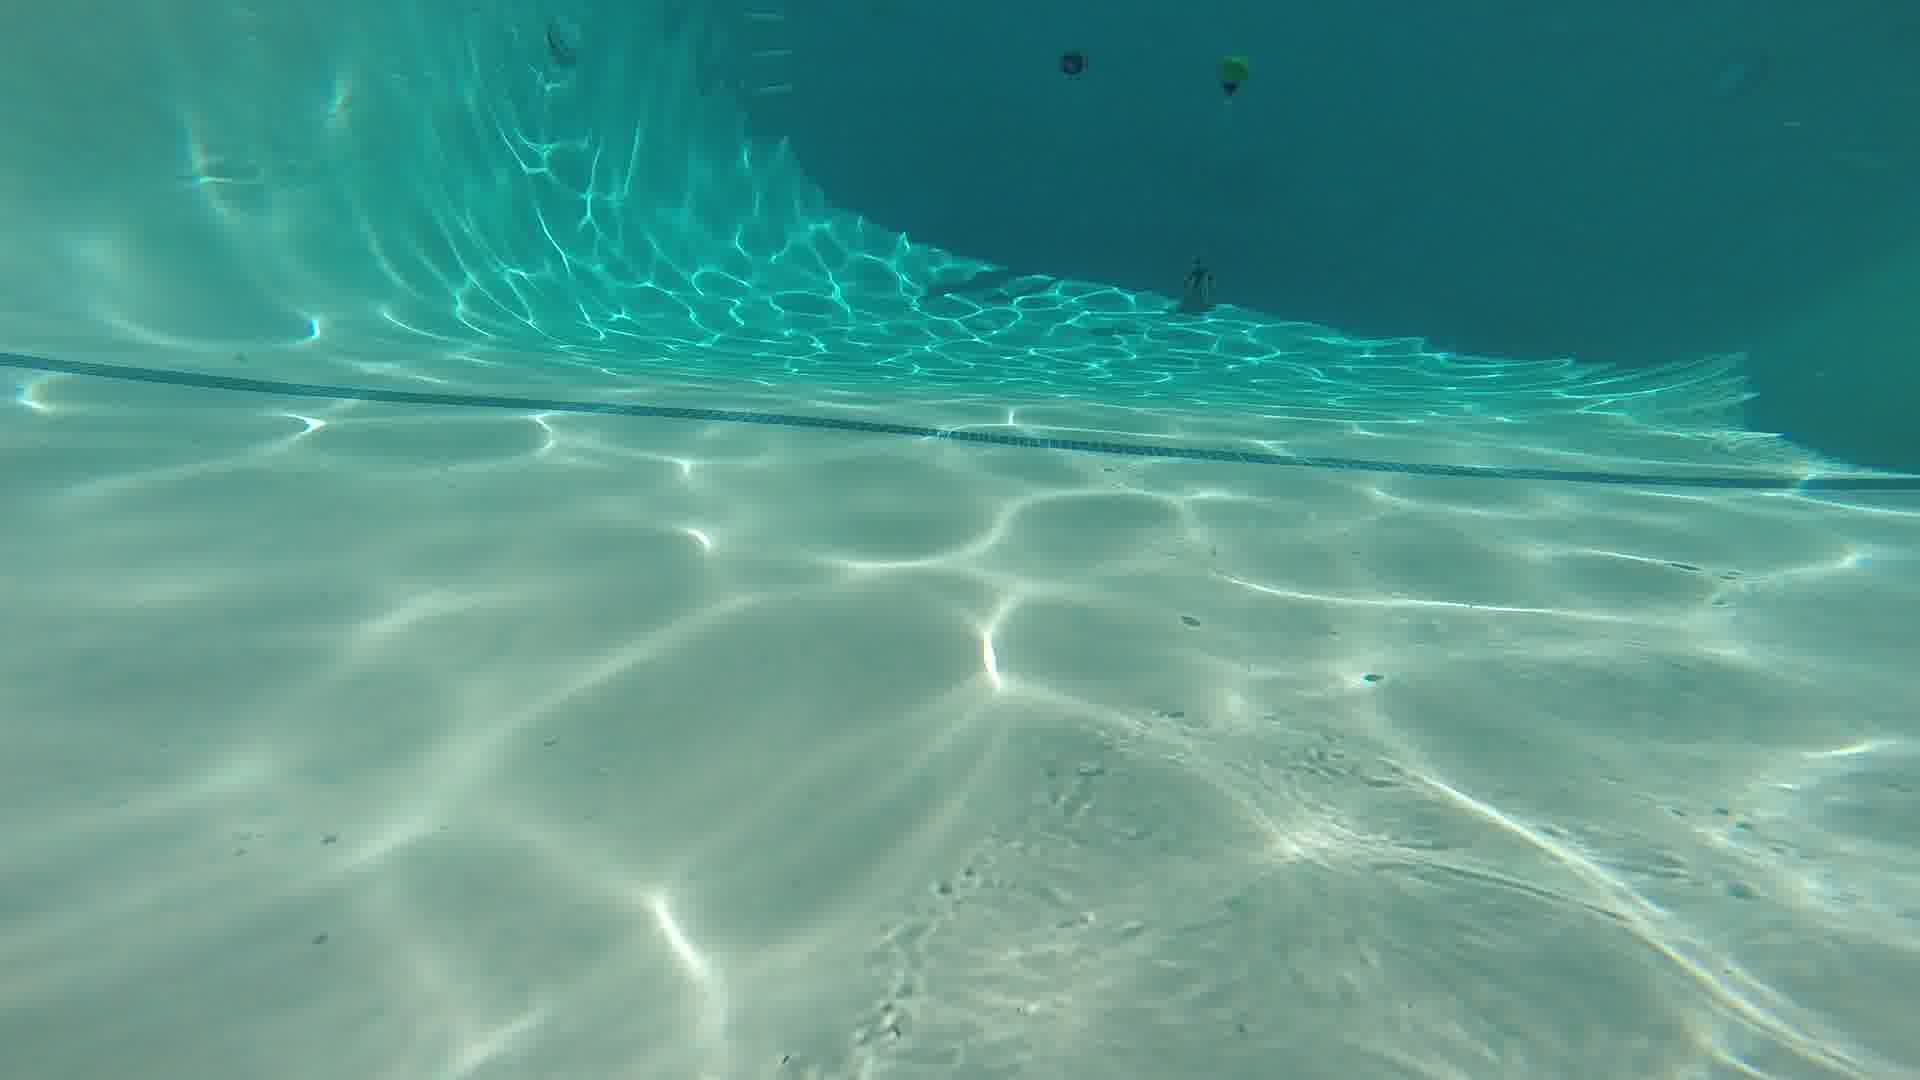yellow_buoy: (1217, 51, 1250, 96)
